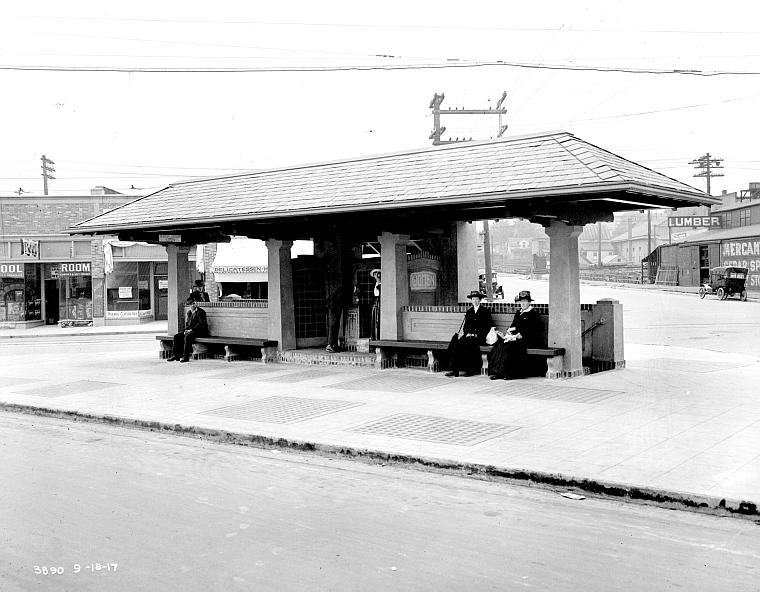fachada: (77, 161, 729, 399), (0, 171, 201, 340), (654, 231, 760, 301)
poste: (426, 89, 523, 146), (686, 149, 727, 201), (40, 144, 66, 197)
